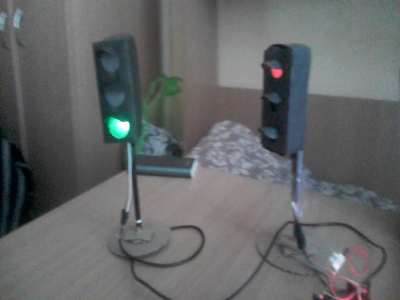trafficlight_green: (93, 44, 136, 142)
trafficlight_red: (261, 47, 293, 146)
